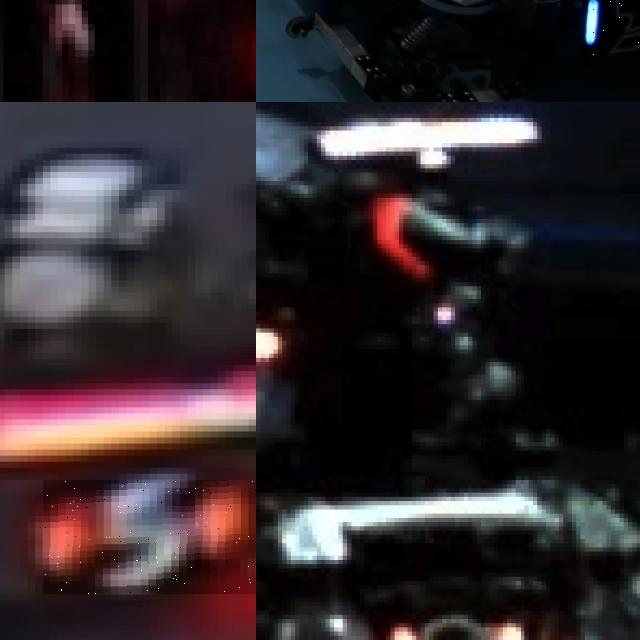Bs: (583, 0, 640, 55)
R5: (43, 479, 256, 594)
Rs: (381, 618, 524, 640)
